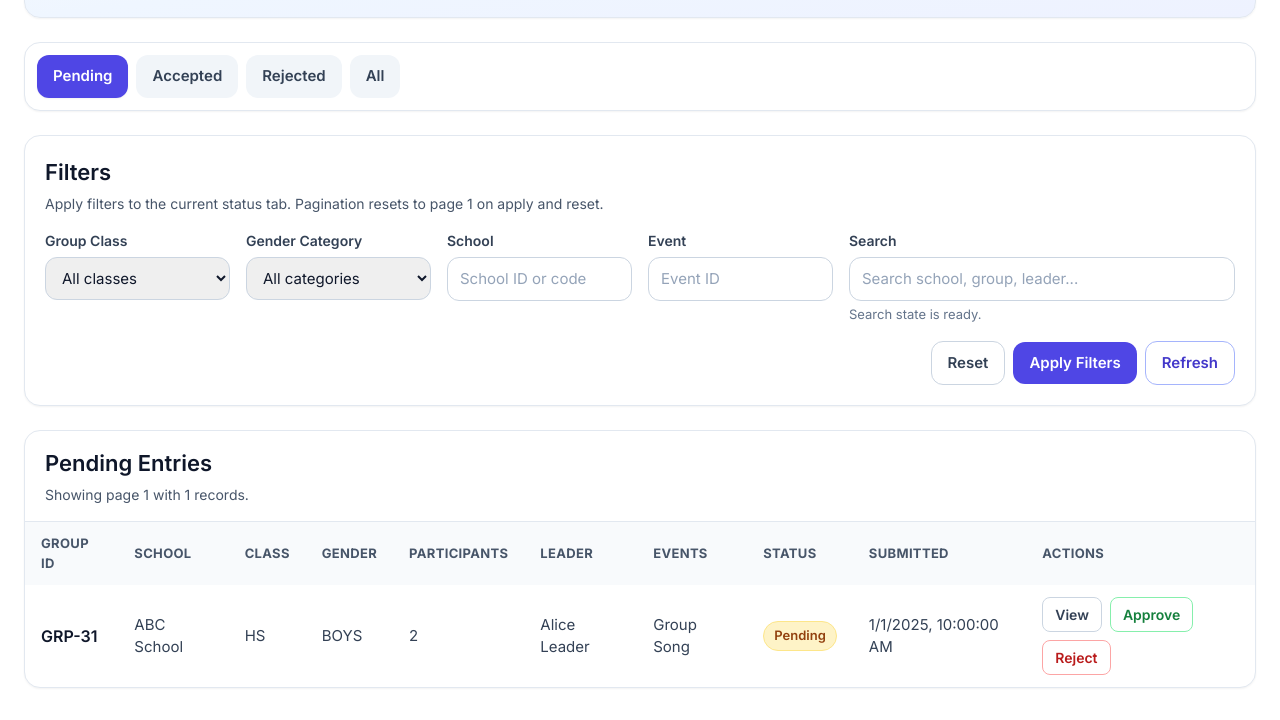
Test: SchoolGroupParticipantsAdmin member edit integration › shows not found message for PATCH 404
(page scrolled)
Step 1. Click the button "View" → (1072, 614), box [1042, 597, 1102, 632]
(page scrolled)
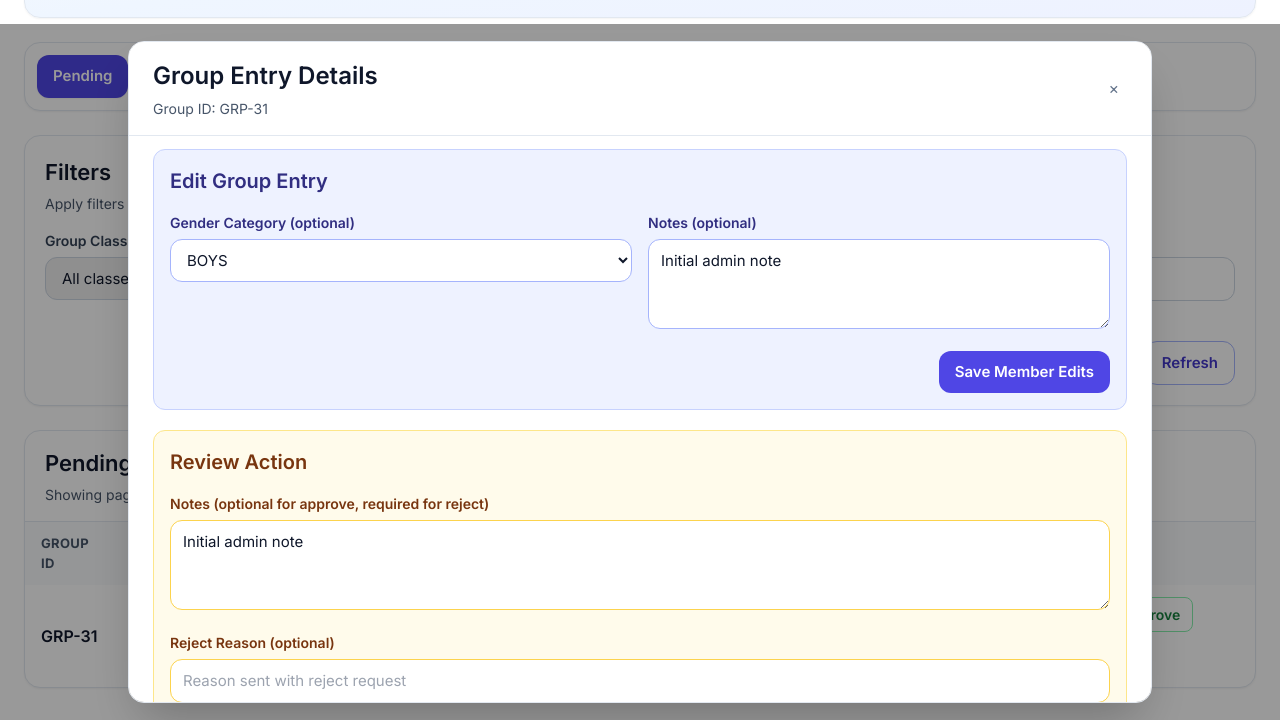
Step 2. Click the button "Save Member Edits" → (1024, 372), box [939, 351, 1110, 393]
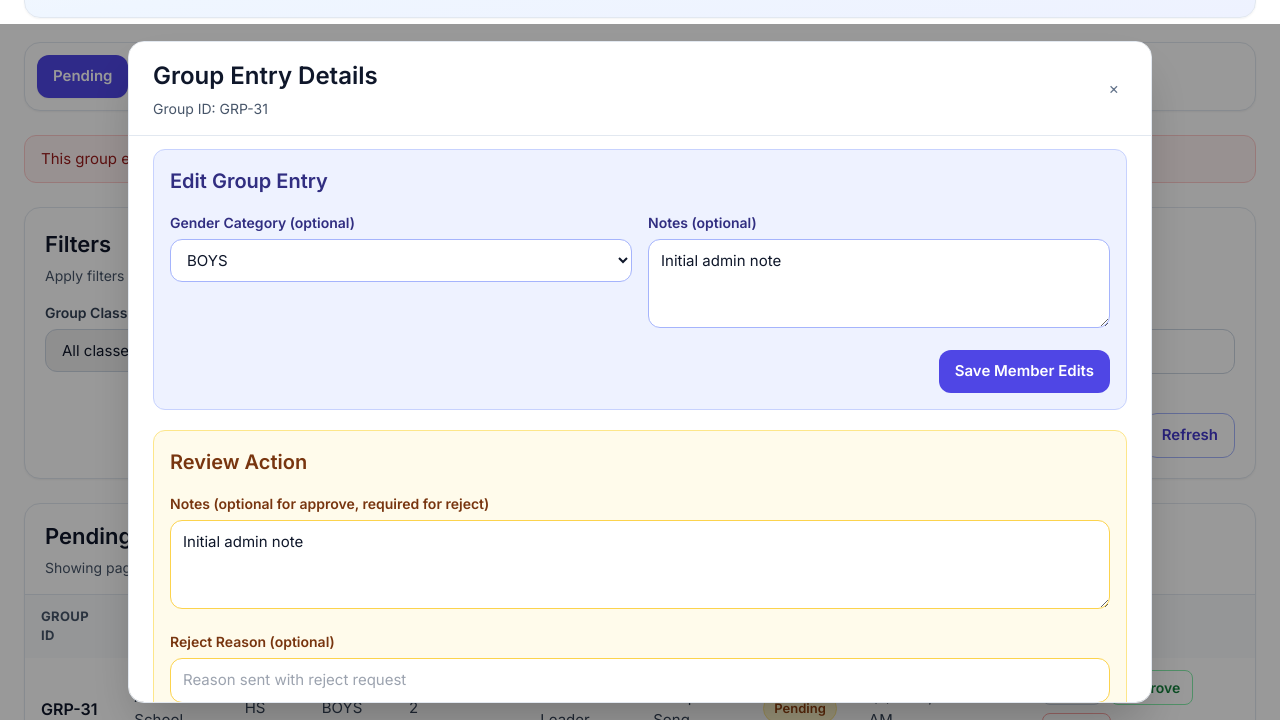
Expected: the text "This group entry was not found or is not accessible." is shown, [24, 134, 1256, 183]
